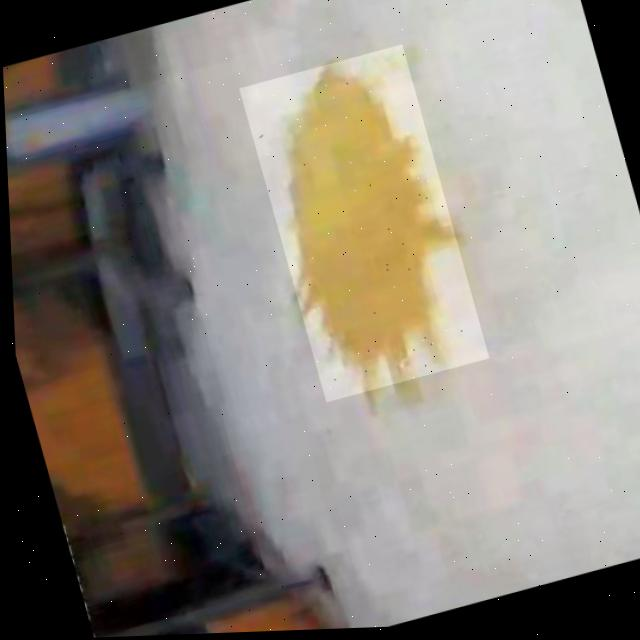spillage: (288, 65, 452, 390)
